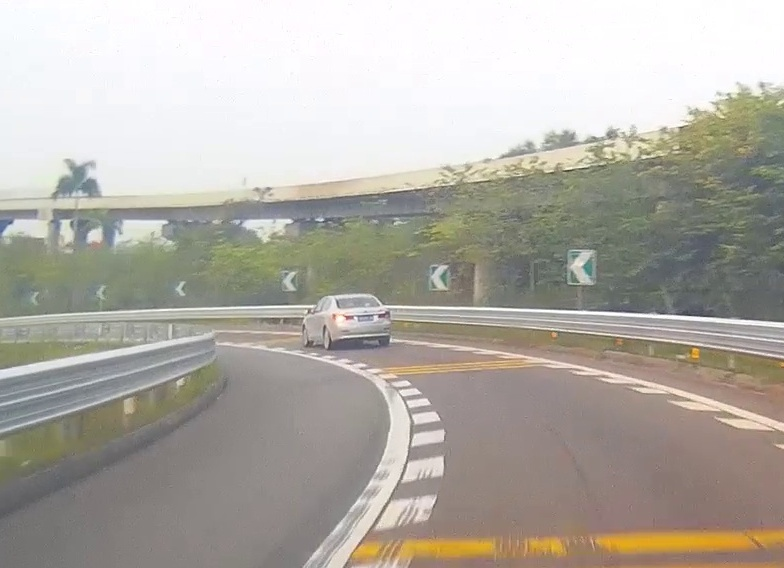L_light: (333, 314, 355, 322)
R_light: (377, 311, 390, 318)
T_light: (351, 296, 363, 299)
day-left: (329, 294, 392, 350)
